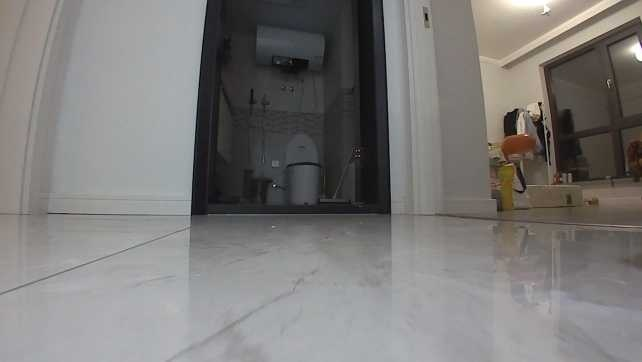door_sill: (205, 202, 374, 215)
toilet: (280, 131, 323, 202)
